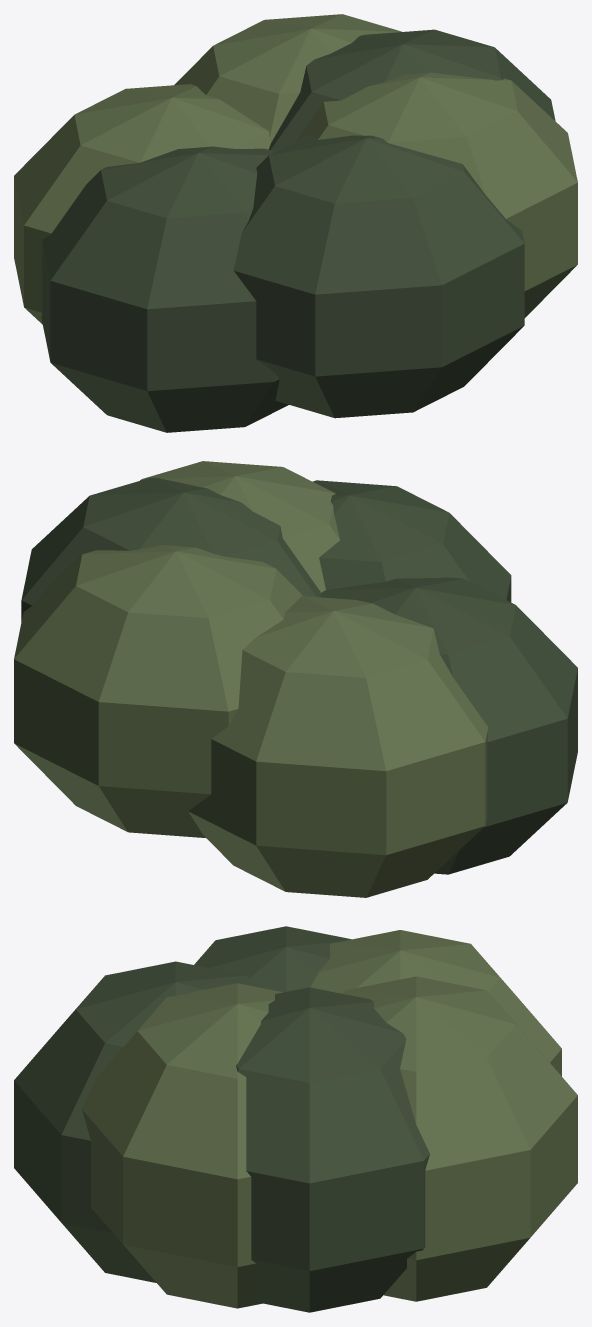
File: Bush_02.glb
The picture shows the model from 3 angles, top to bottom: view 1: azimuth 30°, elevation 25°; view 2: azimuth 150°, elevation 25°; view 3: azimuth 270°, elevation 25°; orthographic projection. The views are drawn at different scales.
Parts seen in each view (by area): view 1: Bush_02; view 2: Bush_02; view 3: Bush_02.
Boxes of the visible parts, <box> form: Bush_02: <box>14,14,577,432</box>; Bush_02: <box>14,461,577,897</box>; Bush_02: <box>14,926,577,1312</box>.
Size of the model in its own units: 1.41 by 0.8272 by 1.26.
